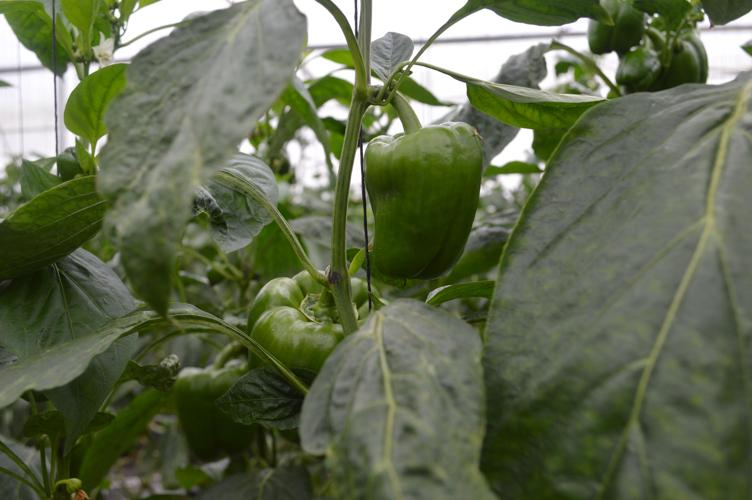BellPepper: (360, 123, 481, 282), (249, 272, 374, 372), (172, 366, 256, 457)
